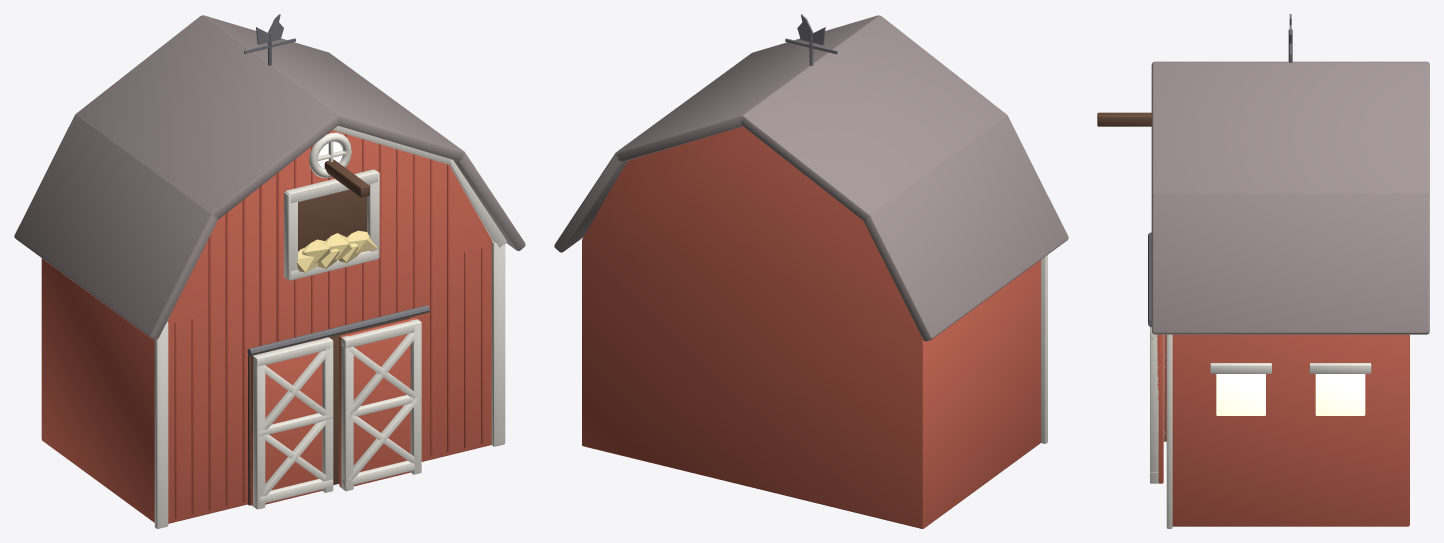
The model's file is bg_barn.glb.
3 renders of one model, left to right at view 1: azimuth 30°, elevation 25°; view 2: azimuth 150°, elevation 25°; view 3: azimuth 270°, elevation 25°, orthographic.
Visible parts, largest first — view 1: bg_barn; view 2: bg_barn; view 3: bg_barn.
Boxes of the visible parts, left/top/right/bottom form: bg_barn: left=14, top=14, right=525, bottom=528; bg_barn: left=554, top=14, right=1068, bottom=528; bg_barn: left=1097, top=14, right=1429, bottom=528.
Bounding box in the file's own units: 4.42 × 4.78 × 3.35.
